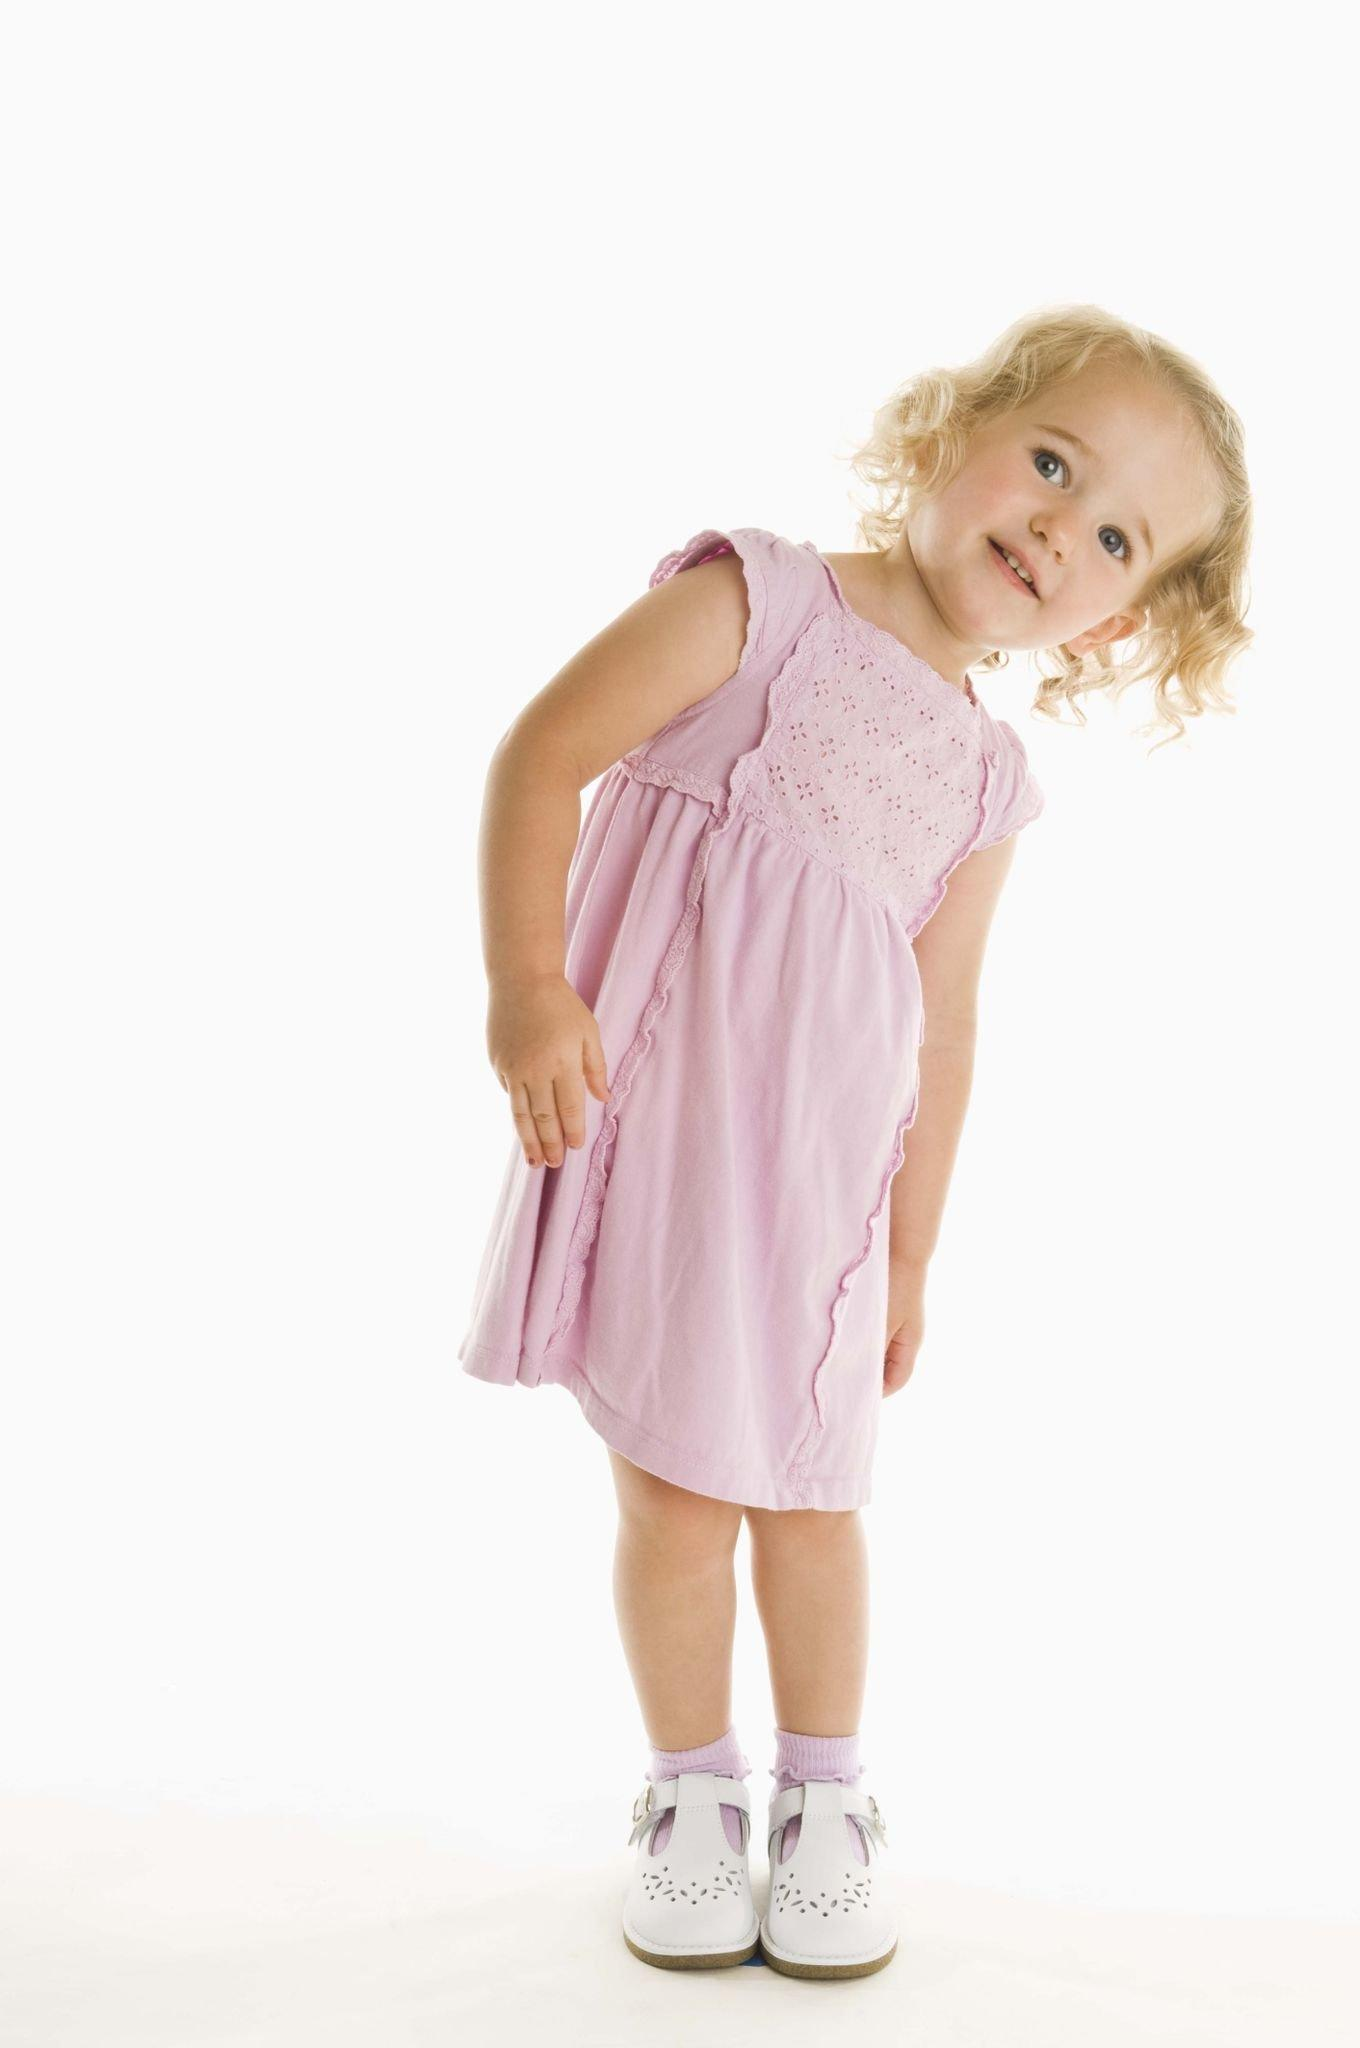Healthy: (911, 322, 1220, 686)
